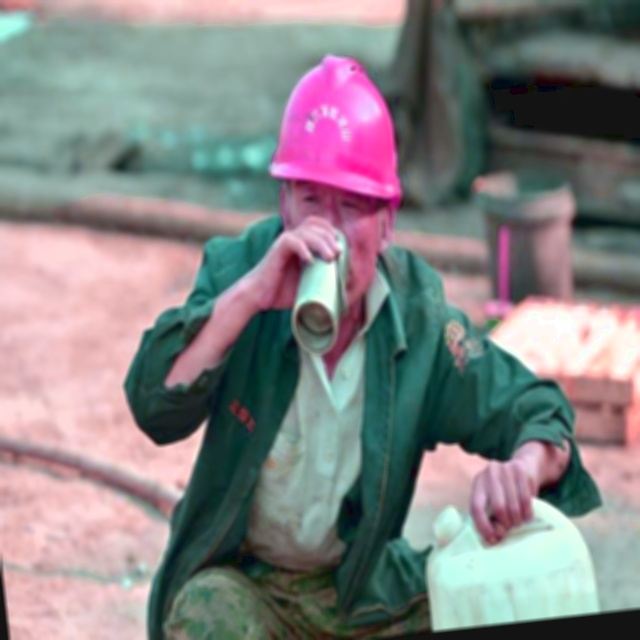Con_Casco: (265, 41, 412, 307)
